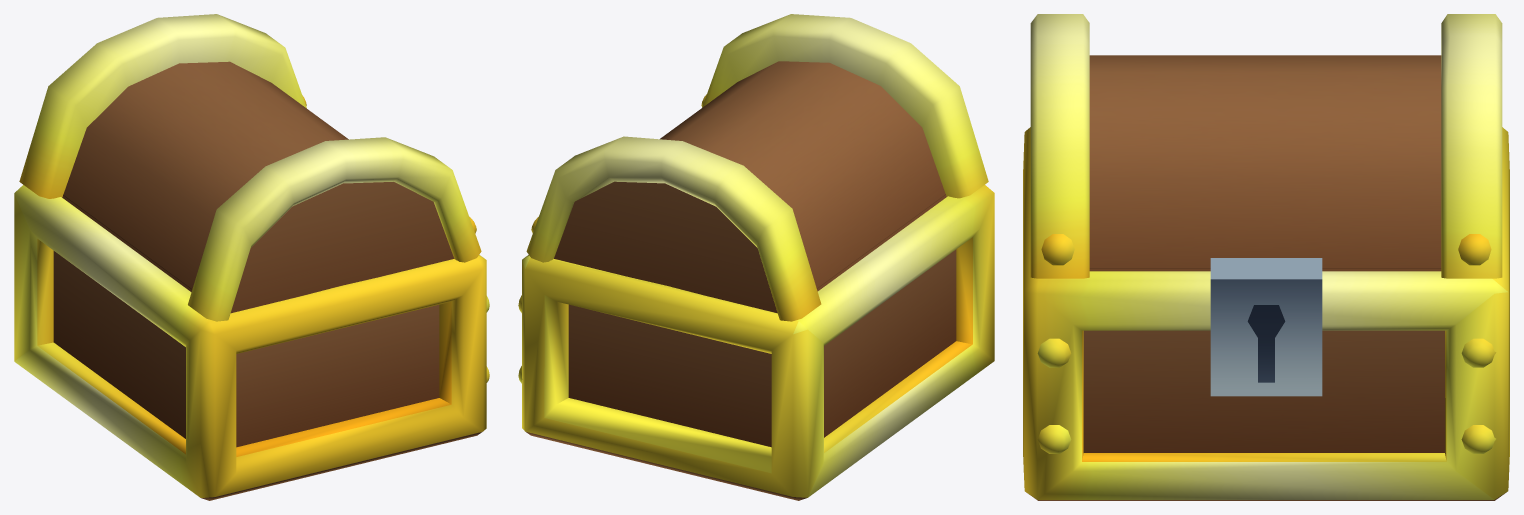
The model's file is deco_deco_chestSmall_closed.FBX.
The picture shows the model from 3 angles, left to right: view 1: azimuth 30°, elevation 25°; view 2: azimuth 150°, elevation 25°; view 3: azimuth 270°, elevation 25°; orthographic projection. The views are drawn at different scales.
Parts seen in each view (by area): view 1: deco_deco_chestSmall_closed, deco_deco_chestSmall_closed.001; view 2: deco_deco_chestSmall_closed, deco_deco_chestSmall_closed.001; view 3: deco_deco_chestSmall_closed, deco_deco_chestSmall_closed.001.
Part boxes in pixels (x1=…): deco_deco_chestSmall_closed: x1=14, y1=185, x2=489, y2=500; deco_deco_chestSmall_closed.001: x1=19, y1=14, x2=481, y2=321; deco_deco_chestSmall_closed: x1=518, y1=185, x2=994, y2=500; deco_deco_chestSmall_closed.001: x1=526, y1=14, x2=988, y2=321; deco_deco_chestSmall_closed: x1=1023, y1=127, x2=1509, y2=500; deco_deco_chestSmall_closed.001: x1=1030, y1=14, x2=1502, y2=278.
Size of the model in its own units: 149 by 152 by 174.
